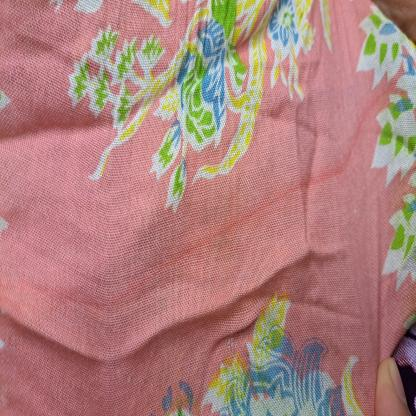spot: (110, 80, 385, 336), (393, 76, 411, 113)
